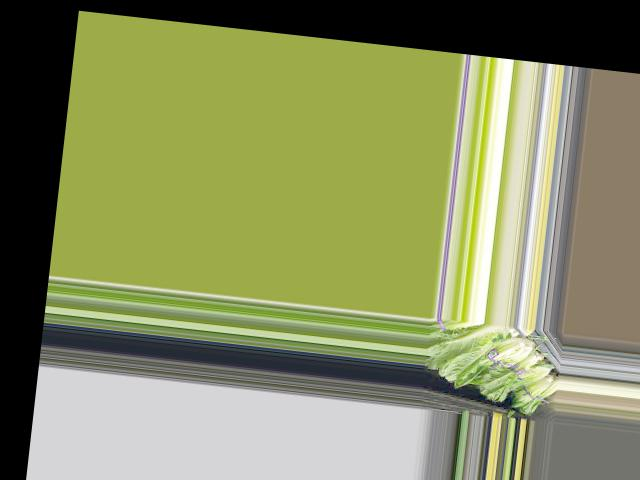lettuce: (425, 321, 508, 383)
